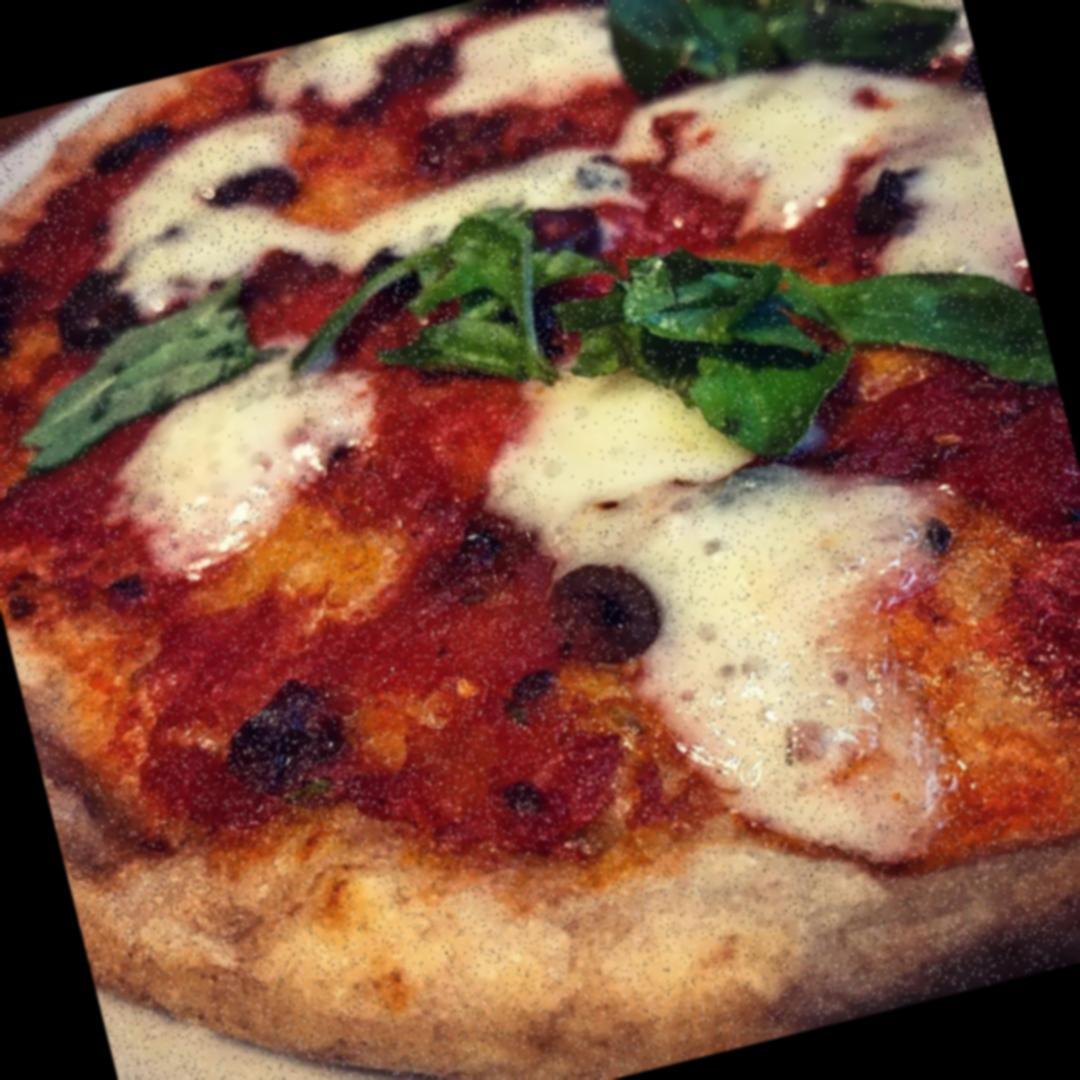Basil: (631, 162, 1054, 459), (15, 275, 326, 470), (337, 205, 592, 412), (589, 0, 956, 133)
Cheese: (535, 405, 936, 769), (724, 59, 992, 255), (522, 376, 681, 522), (162, 394, 308, 504), (462, 0, 604, 108)
Olives: (520, 534, 680, 682), (33, 244, 146, 366), (196, 150, 316, 236), (828, 154, 928, 252), (526, 181, 624, 272)
Pizza: (0, 0, 1080, 1080)
